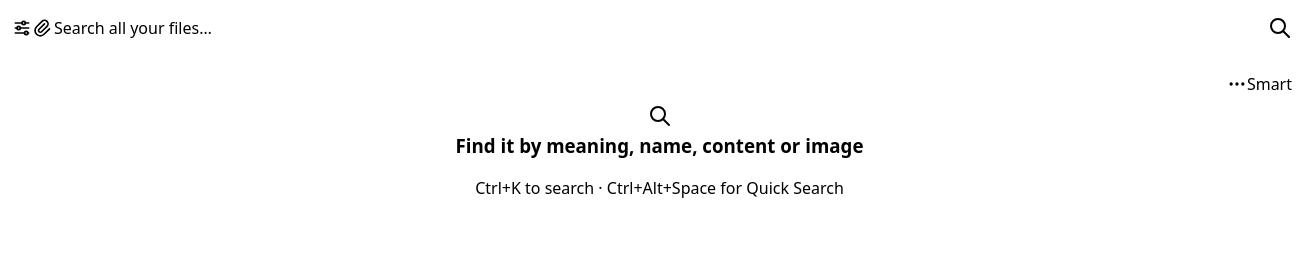
Scenario: desktop search behavior › discards a stale semantic response after newer search input
Type "alpha" into the field labelled "Search".
click(660, 28); type("alpha")  # box [52,16,1268,40]
Wait 125 ms
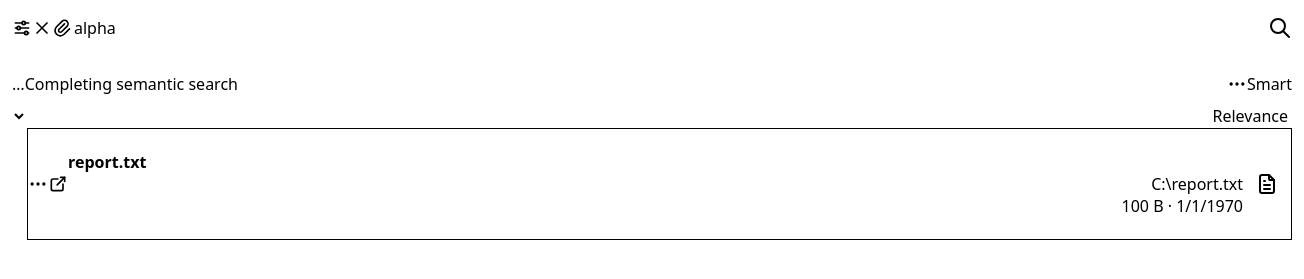
Replace the text in the field named "Search" with "beta" at (670, 28), box [72,16,1268,40]
Wait 125 ms
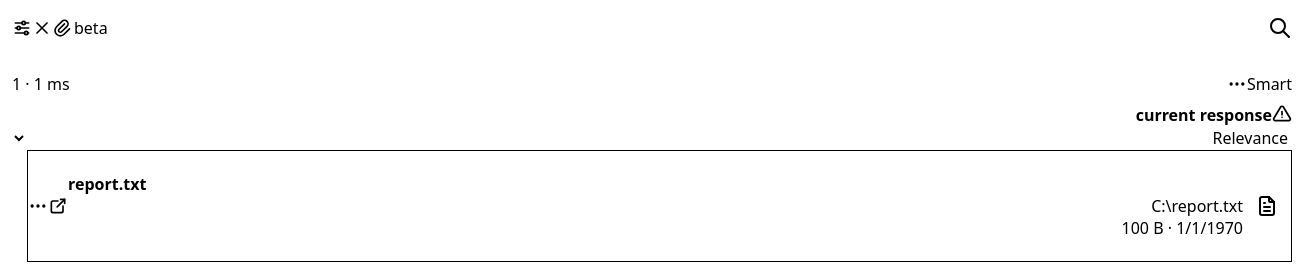
Check: the text "current response" is shown, box [1136,104,1272,126]
